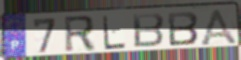7: (32, 17, 58, 55)
A: (198, 7, 241, 45)
B: (131, 12, 166, 49), (166, 11, 200, 48)
L: (102, 14, 128, 51)
R: (63, 14, 97, 54)
